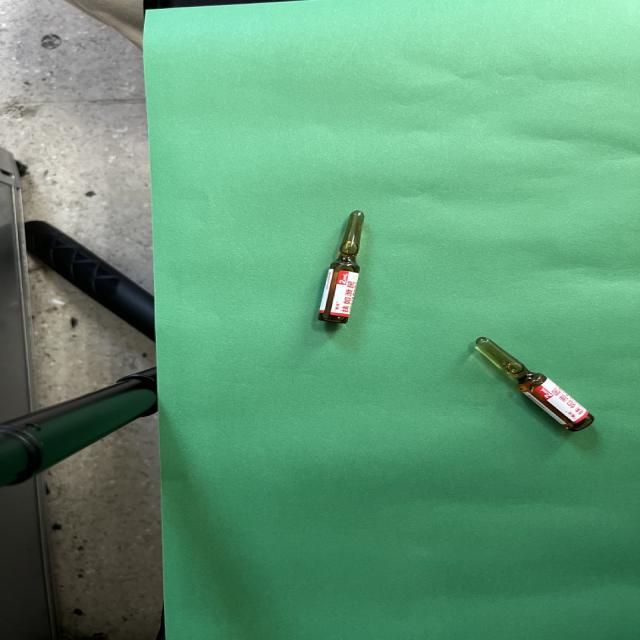Ampoules: (475, 337, 594, 432), (318, 210, 363, 324)
